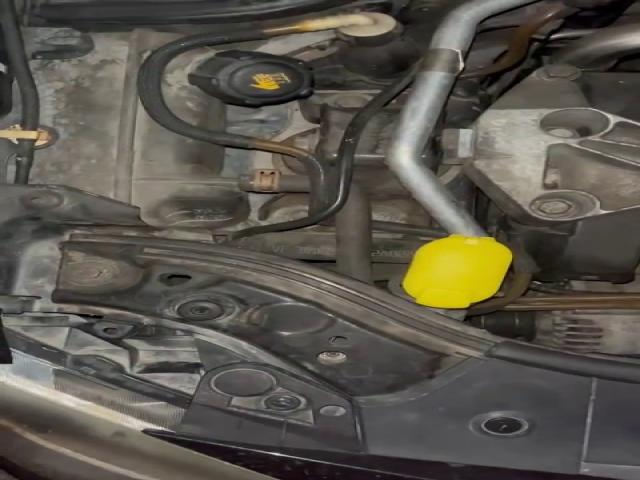antifreeze_tank: (33, 29, 247, 227), (161, 47, 314, 132)
